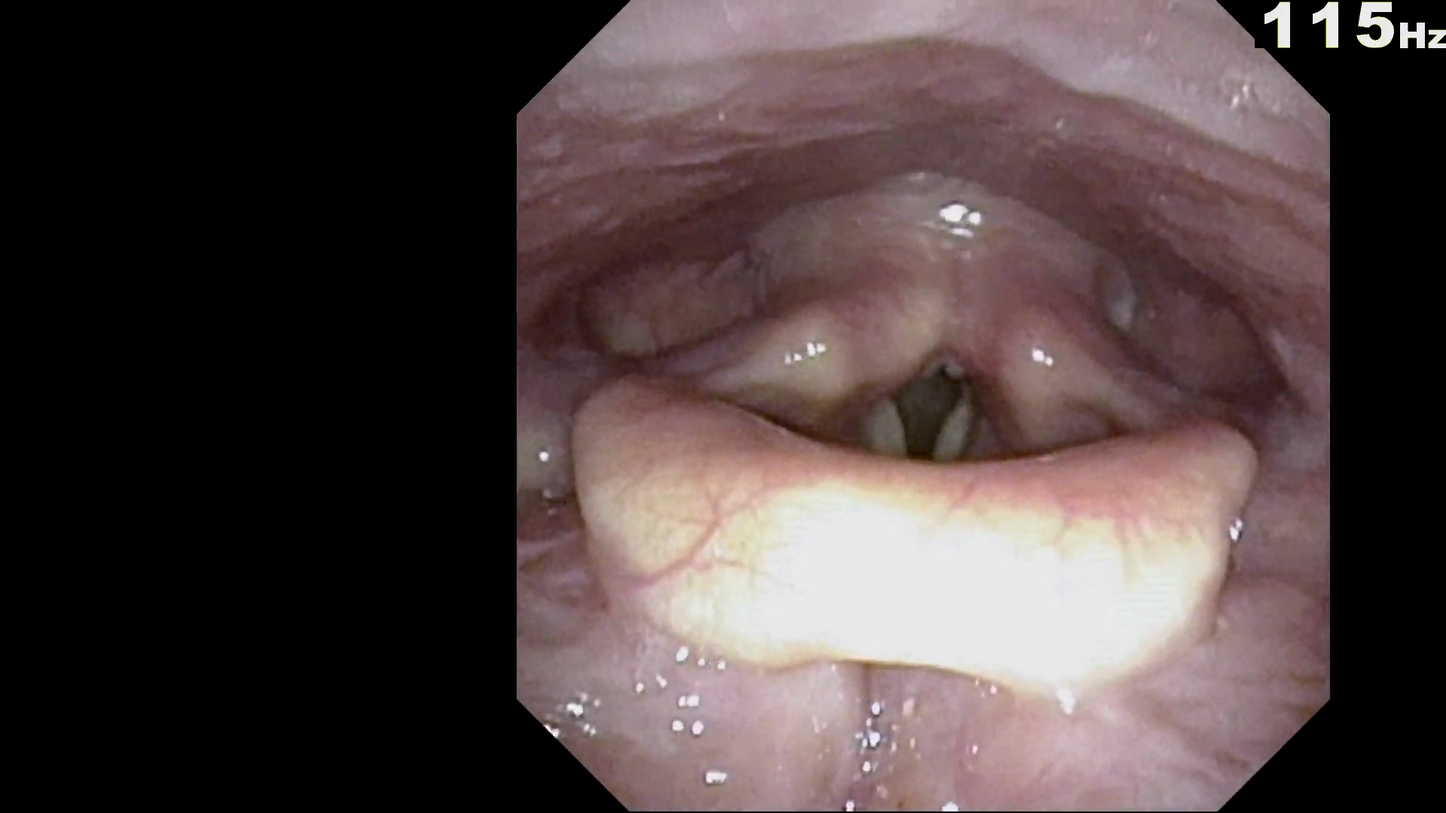epiglottis: (556, 338, 1280, 698)
trachea: (847, 300, 1026, 525)
